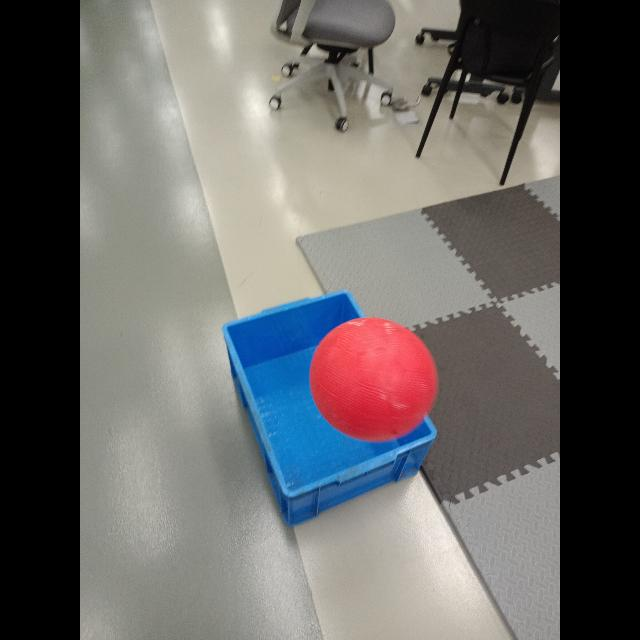R: (310, 317, 438, 445)
